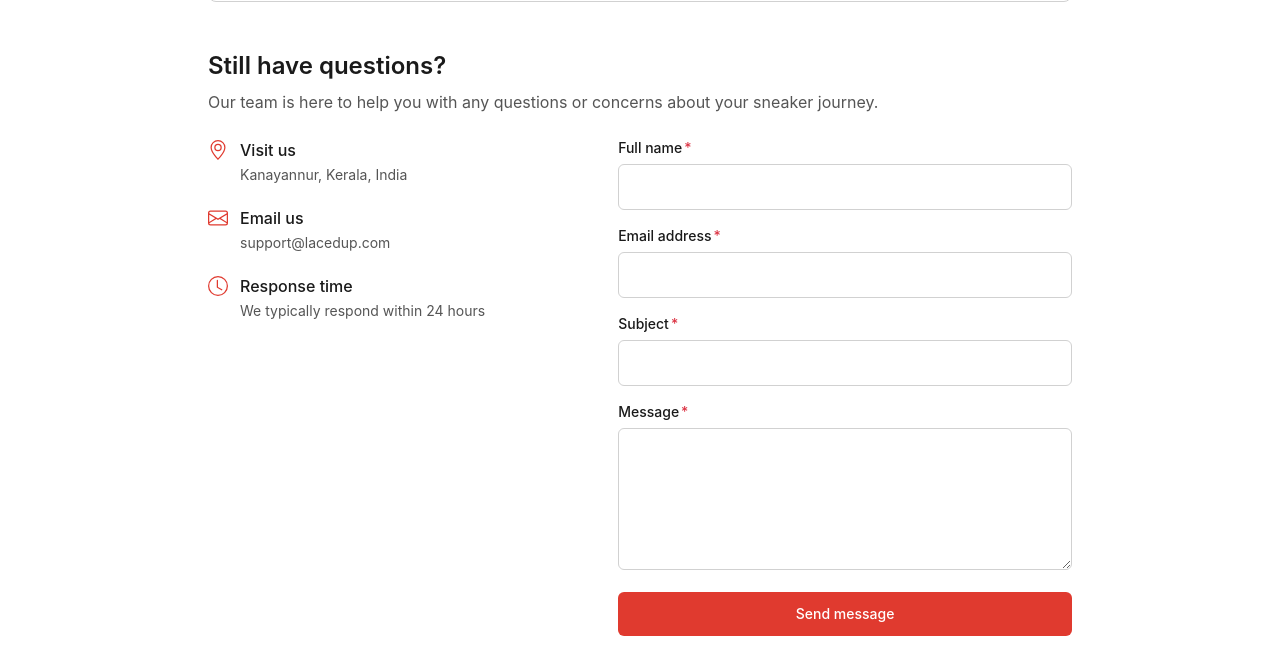
Test: HelpPage › validates before sending anything
(page scrolled)
Click the button "Send message": (845, 614) x1=618 y1=592 x2=1072 y2=636
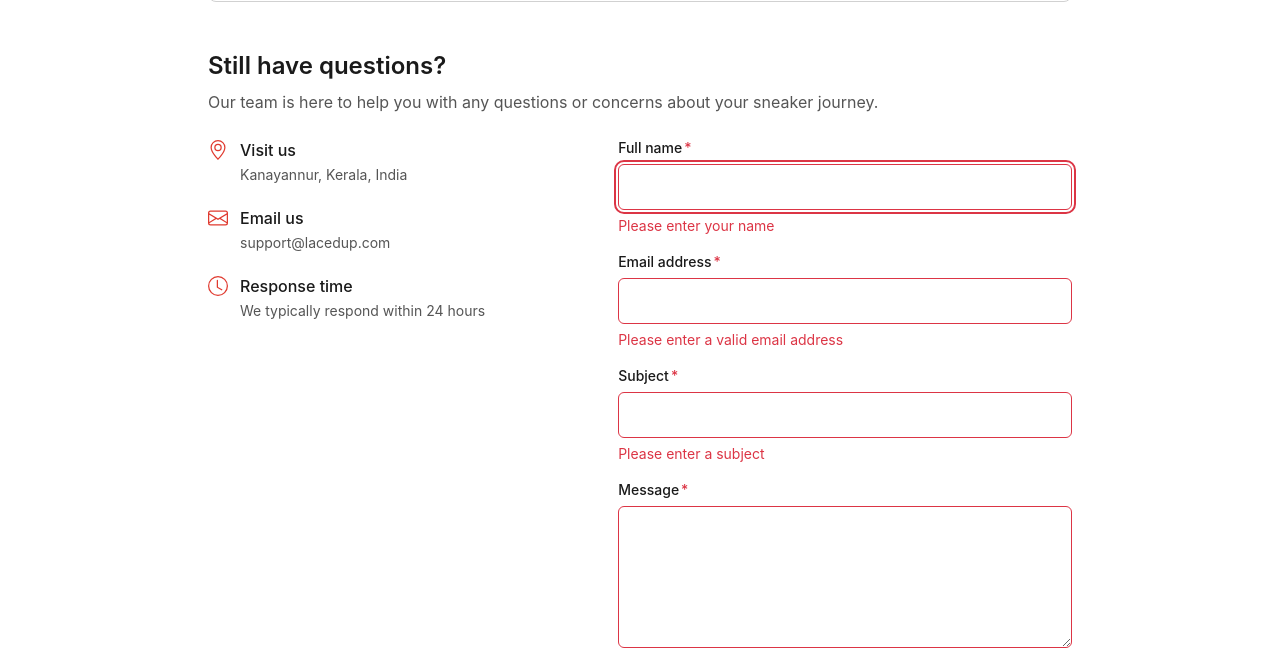
Expected: the text "Please enter your name" is shown, x1=618 y1=217 x2=774 y2=234
